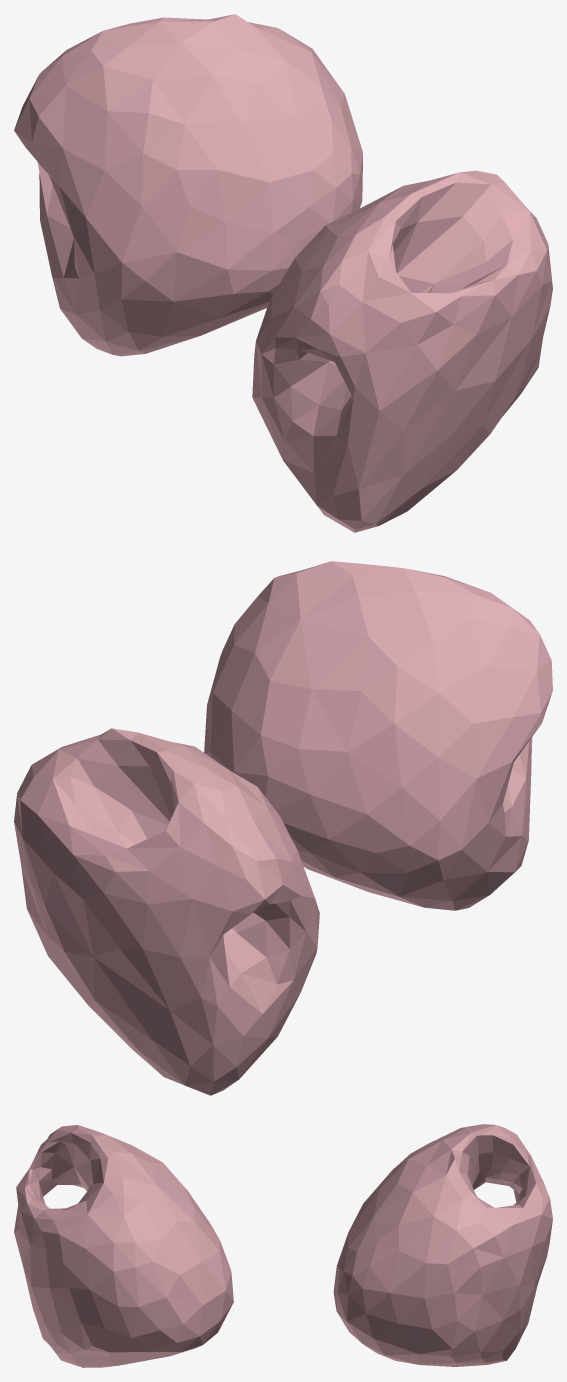
The picture shows the model from 3 angles, top to bottom: view 1: azimuth 30°, elevation 25°; view 2: azimuth 150°, elevation 25°; view 3: azimuth 270°, elevation 25°; orthographic projection. The views are drawn at different scales.
Visible parts, largest first — view 1: 366.obj; view 2: 366.obj; view 3: 366.obj.
Boxes of the visible parts, x1,y1,x2,y2 form: 366.obj: (14,14,552,532); 366.obj: (14,561,552,1095); 366.obj: (14,1124,552,1367).
Size of the model in its own units: 684 by 714 by 1395.
